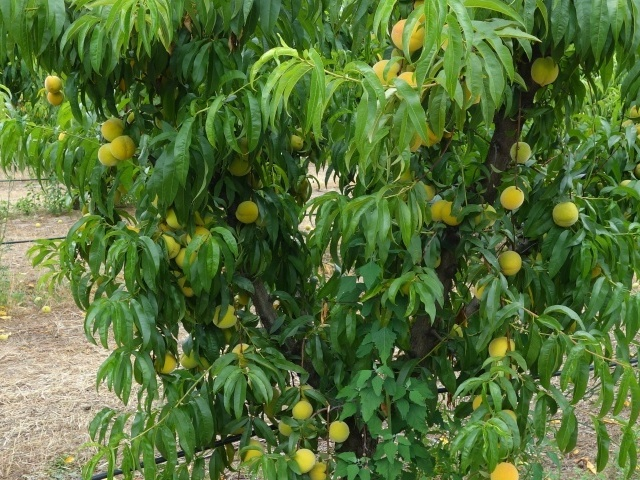peach: (367, 53, 410, 91), (389, 14, 428, 53), (530, 53, 561, 87), (497, 184, 531, 215), (486, 331, 518, 362), (152, 231, 183, 263), (550, 198, 581, 229), (496, 247, 525, 279), (108, 134, 141, 162), (95, 114, 128, 142), (232, 199, 261, 229), (91, 142, 120, 171), (210, 301, 238, 331), (183, 222, 214, 248), (240, 439, 269, 466), (393, 71, 421, 98), (324, 418, 351, 446), (227, 153, 255, 180), (508, 140, 534, 169), (289, 399, 318, 425), (170, 242, 195, 272), (154, 208, 182, 234), (290, 447, 318, 472), (441, 202, 467, 227), (490, 459, 520, 479), (155, 352, 181, 375), (229, 342, 256, 364), (271, 417, 294, 440), (177, 348, 200, 371), (426, 197, 450, 219), (41, 87, 66, 108), (40, 73, 63, 93), (309, 459, 331, 479)
